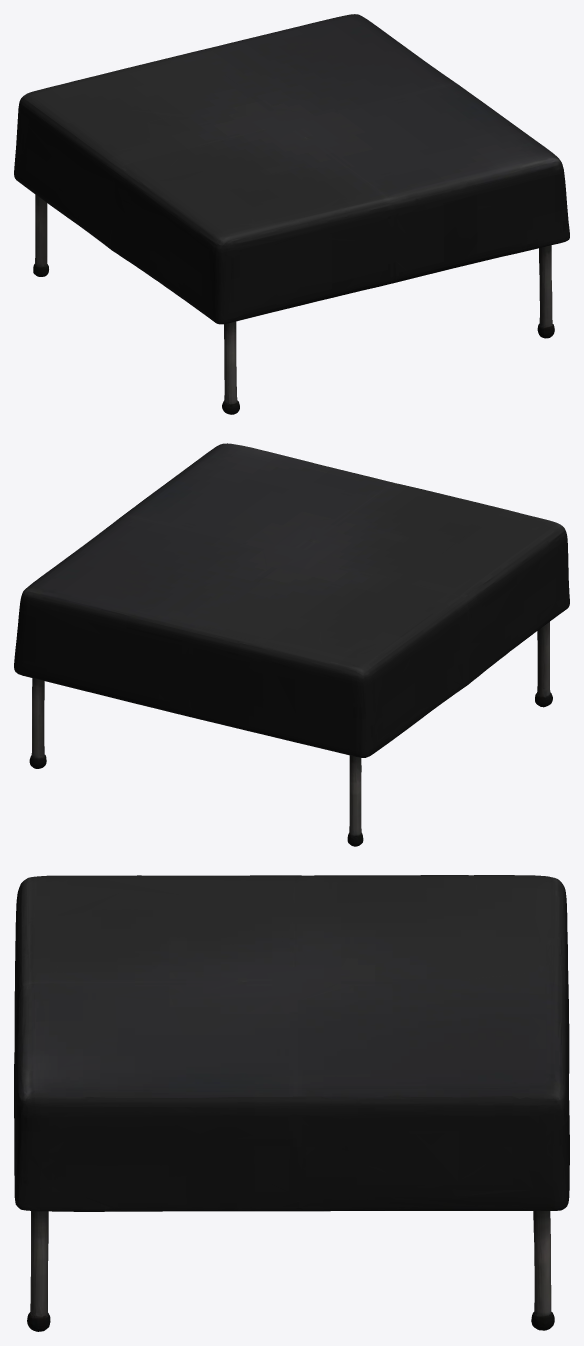
Rendered from b1Seat.glb.
The picture shows the model from 3 angles, top to bottom: view 1: azimuth 30°, elevation 25°; view 2: azimuth 150°, elevation 25°; view 3: azimuth 270°, elevation 25°; orthographic projection. The views are drawn at different scales.
Visible parts, largest first — view 1: geometry_0; view 2: geometry_0; view 3: geometry_0.
Boxes of the visible parts, bbox=[...] form: geometry_0: bbox=[14, 14, 569, 414]; geometry_0: bbox=[14, 443, 569, 846]; geometry_0: bbox=[14, 875, 569, 1331].
Size of the model in its own units: 0.9747 by 0.4781 by 0.9906.
1 material, 1 textured.
